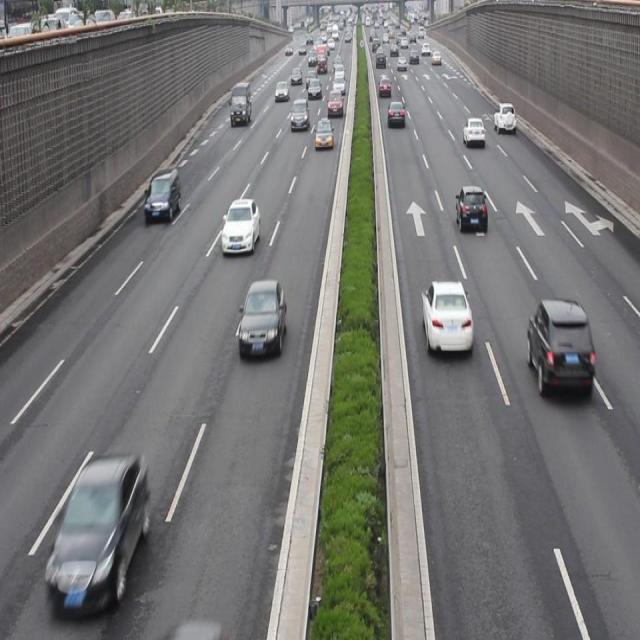car: (47, 451, 149, 609), (526, 297, 594, 399), (419, 279, 473, 353), (238, 278, 286, 356), (220, 198, 260, 252), (144, 168, 181, 220), (454, 183, 487, 234), (492, 100, 515, 132), (462, 116, 484, 148), (313, 118, 333, 150), (387, 98, 405, 128)
truck: (290, 97, 310, 132)
